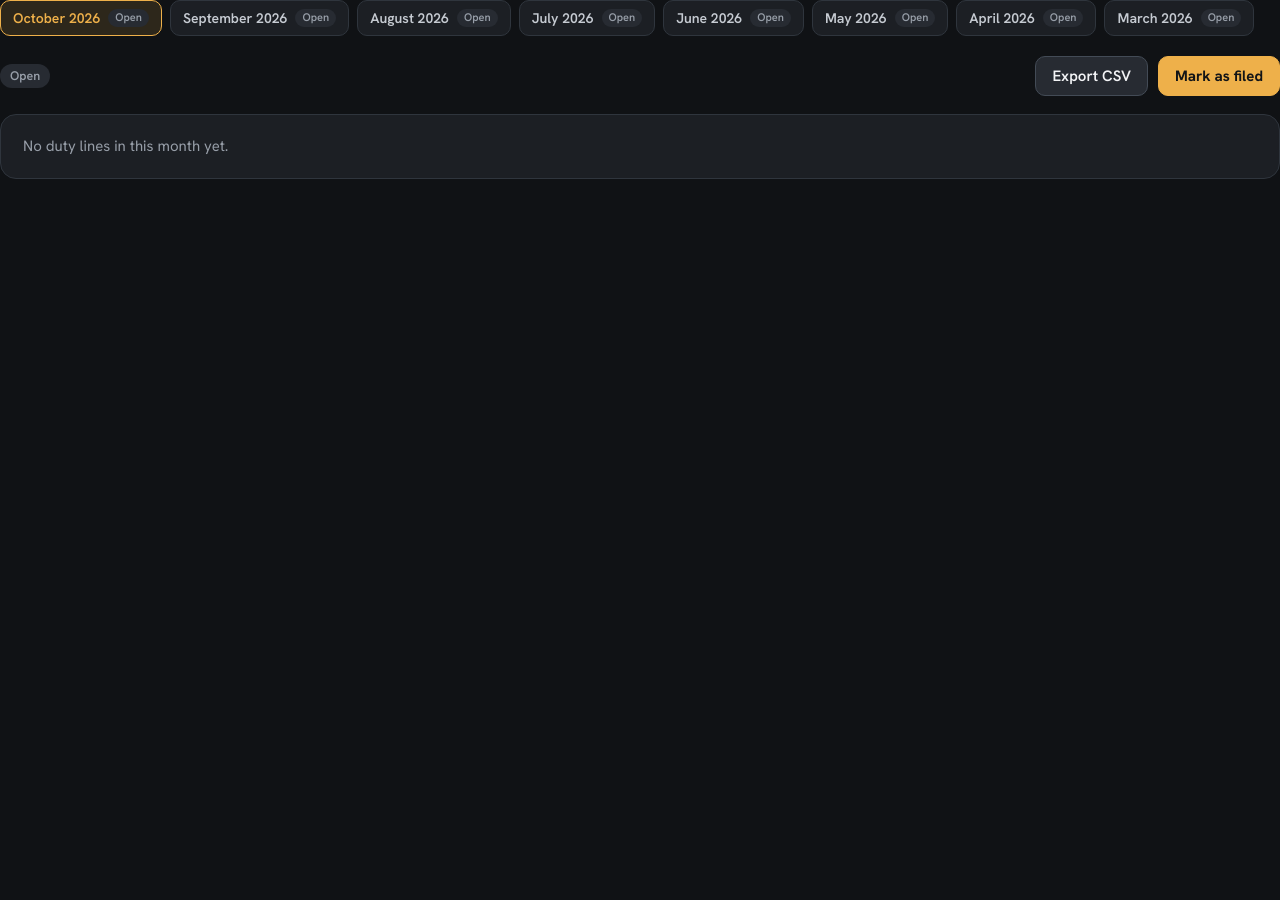
Scenario: MonthlyReturn filing › asks for confirmation, showing the totals, before filing
Click the button "Mark as filed" at {"x": 1219, "y": 76}, box [1158,56,1279,96]
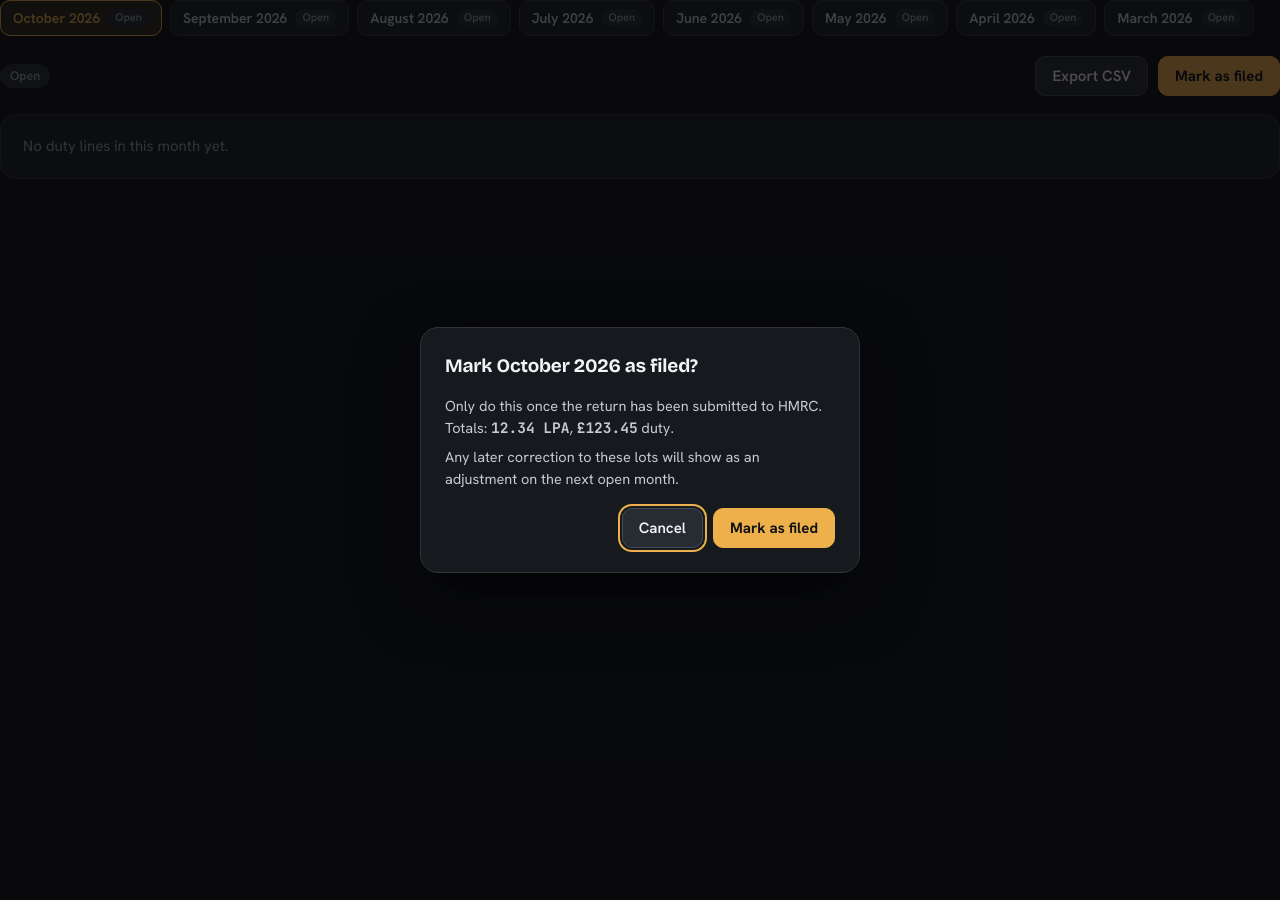
Now the dialog shows "12.34 LPA", box [420,327,860,573]
Now the dialog shows "£123.45", box [577,418,638,436]
Click the button "Mark as filed" at {"x": 774, "y": 528}, box [713,508,835,548]
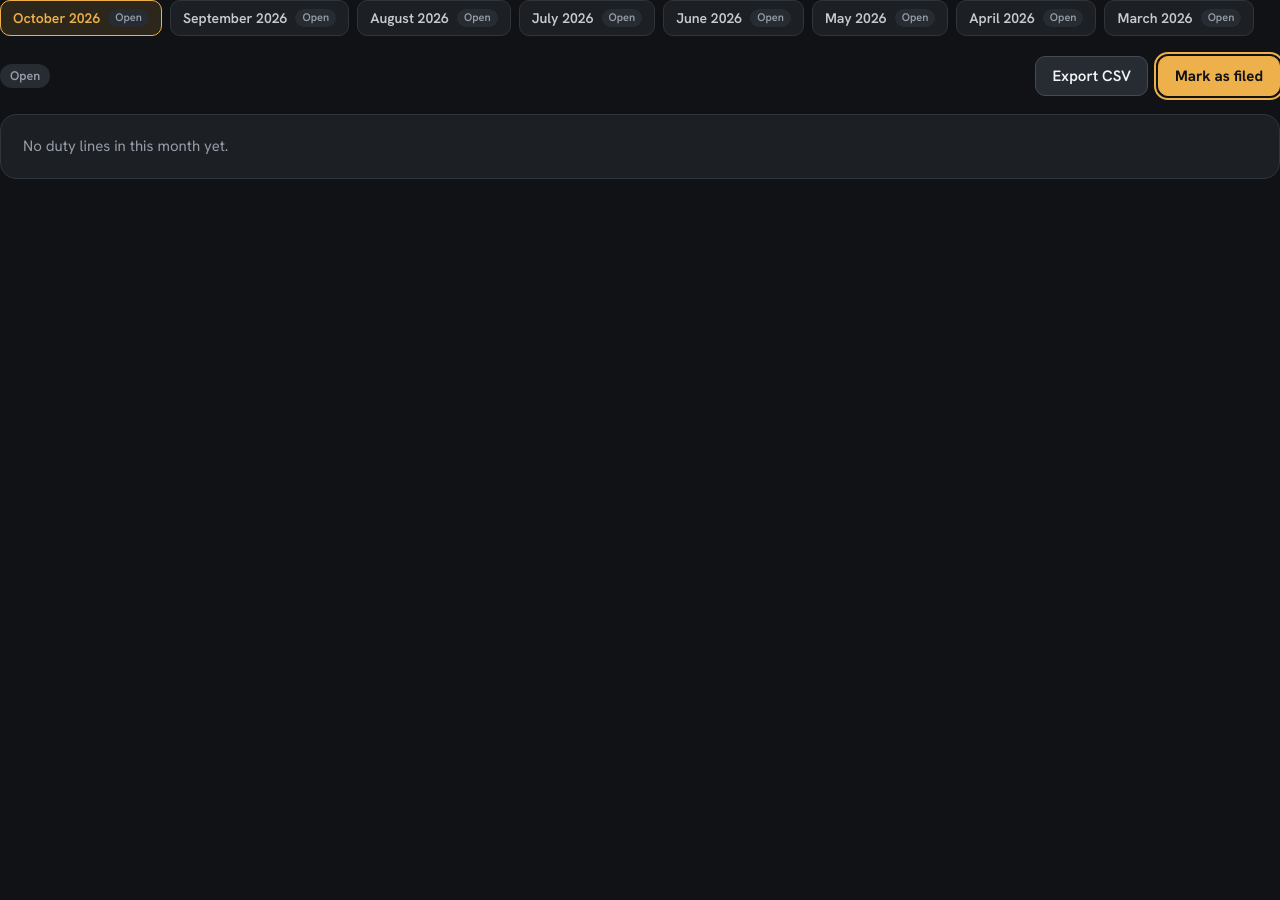
Now the dialog is gone
